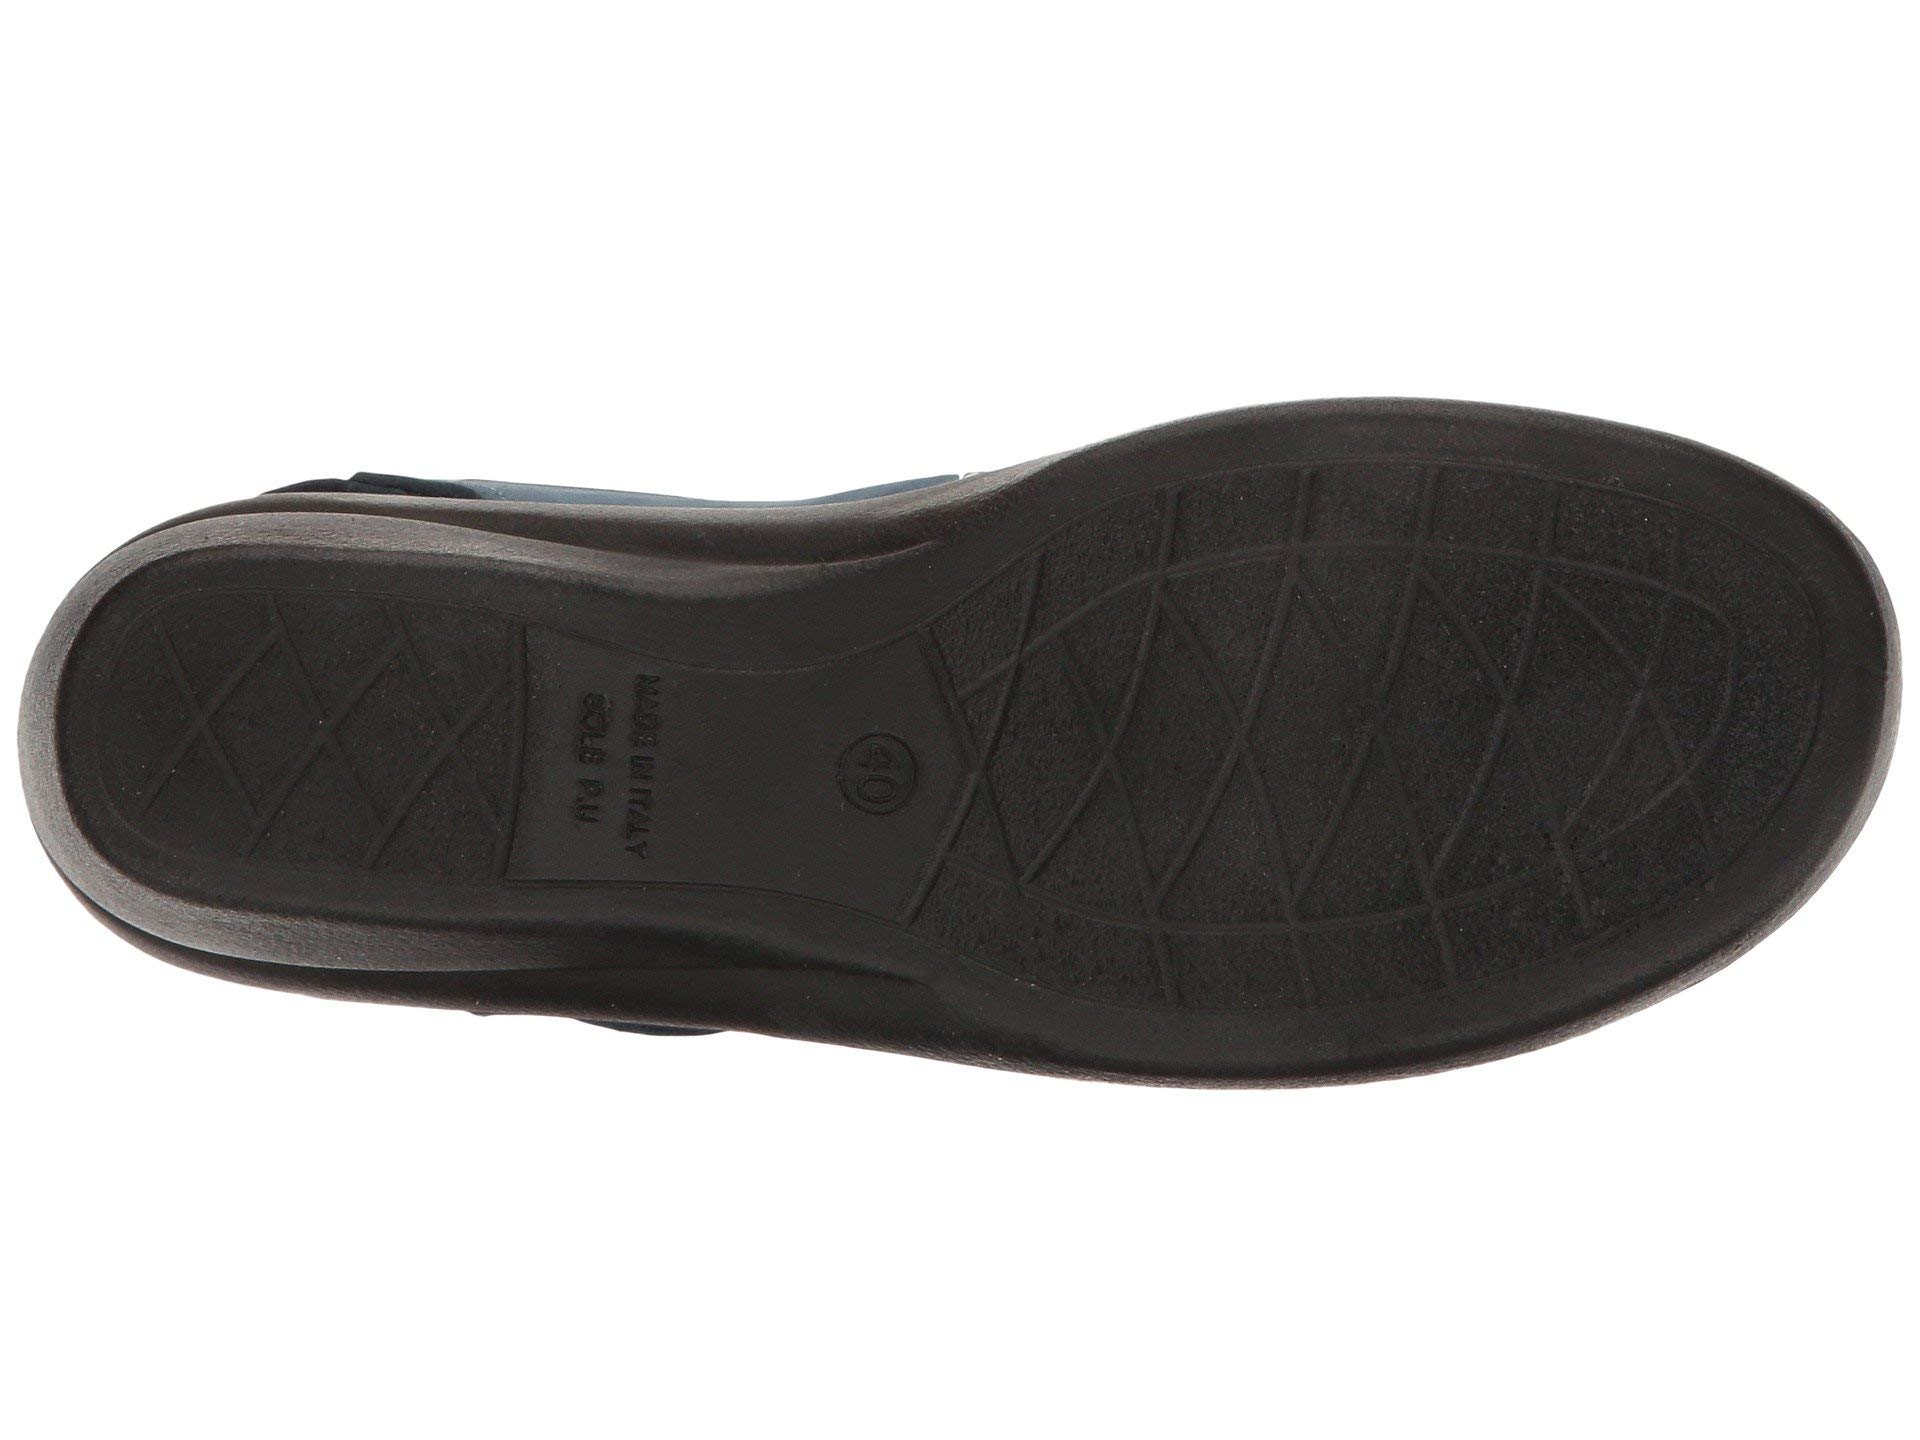circle: (825, 706, 931, 849)
quad: (1134, 448, 1530, 806), (160, 591, 467, 909)
text: (825, 706, 931, 849)
triangle: (1134, 448, 1530, 806), (160, 591, 467, 909)
